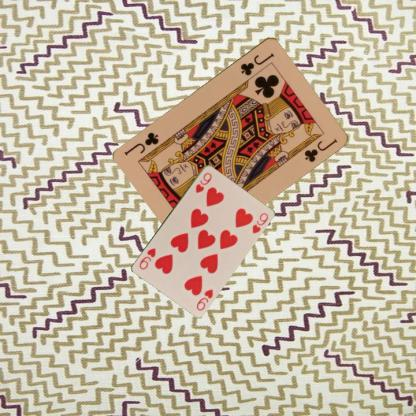9h: (192, 170, 214, 194), (193, 286, 214, 311)
Jc: (238, 50, 275, 77)
